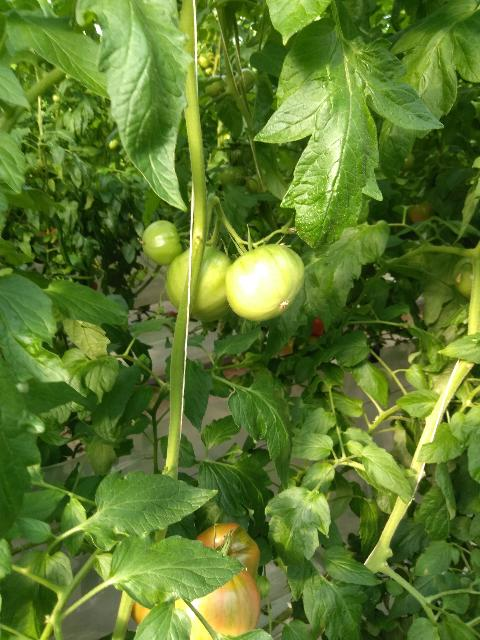b_green: (226, 243, 305, 322), (165, 245, 232, 321), (142, 220, 183, 266), (453, 257, 473, 300)
b_half_ripened: (175, 570, 261, 640), (194, 522, 261, 582)
